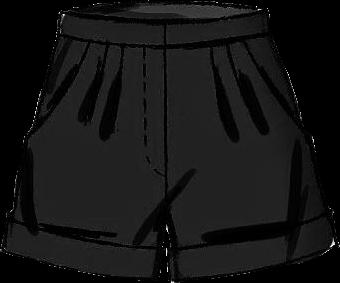Hemline: (171, 239, 335, 282), (0, 247, 158, 282)
Pantleg: (164, 1, 334, 281), (2, 1, 166, 282)
Waistline: (169, 208, 329, 251), (7, 216, 163, 250), (55, 27, 270, 47), (60, 7, 266, 21)
